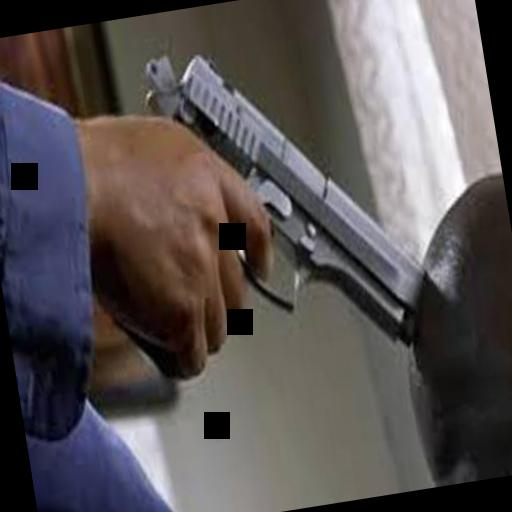Handgun: (88, 14, 428, 388)
